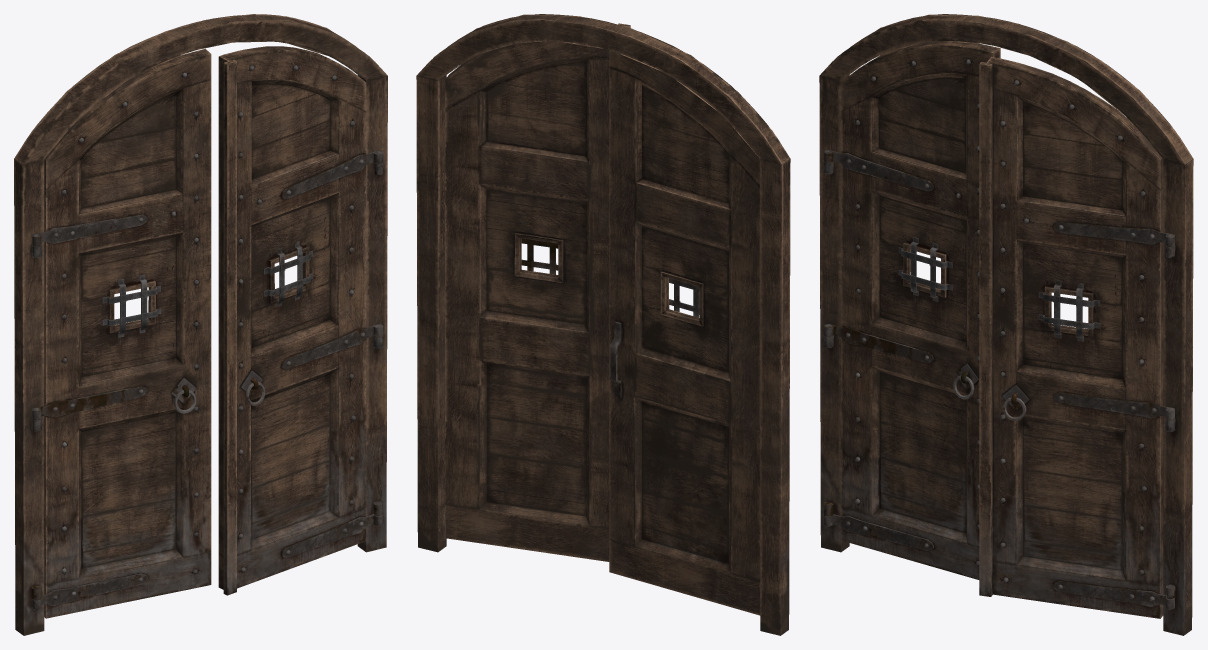
File: ph_large_castle_door.glb
3 renders of one model, left to right at view 1: azimuth 30°, elevation 25°; view 2: azimuth 150°, elevation 25°; view 3: azimuth 330°, elevation 25°, orthographic.
Parts seen in each view (by area): view 1: large_castle_door_left, large_castle_door_right, large_castle_door_frame; view 2: large_castle_door_right, large_castle_door_left, large_castle_door_frame; view 3: large_castle_door_right, large_castle_door_left, large_castle_door_frame.
Boxes of the visible parts, x1,y1,x2,y2 form: large_castle_door_left: (32,48,211,618); large_castle_door_right: (218,46,383,595); large_castle_door_frame: (14,14,387,635); large_castle_door_right: (445,23,630,561); large_castle_door_left: (609,50,760,615); large_castle_door_frame: (416,14,790,635); large_castle_door_right: (979,57,1174,618); large_castle_door_left: (823,41,1000,579); large_castle_door_frame: (819,14,1193,635).
Size of what is drawn, in the model's own units: 2.01 by 2.96 by 0.2963.
1 material, 1 textured.
